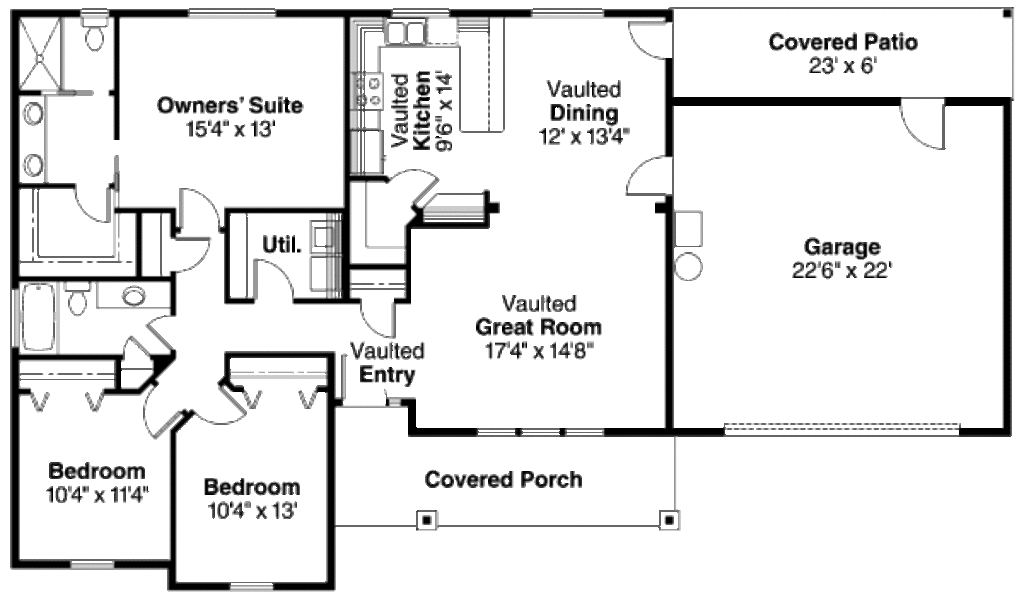door: (885, 89, 948, 153), (168, 179, 221, 241), (337, 356, 398, 408), (619, 152, 682, 200), (625, 17, 682, 69), (137, 384, 183, 441), (194, 384, 245, 435), (252, 252, 297, 303), (385, 163, 440, 204), (73, 182, 114, 231), (357, 298, 400, 342), (141, 314, 179, 351), (117, 339, 150, 359)
large_sink: (69, 7, 114, 54), (59, 272, 94, 323)
small_sink: (12, 92, 48, 188), (96, 279, 174, 314)
tub: (16, 280, 58, 357)
twin_sink: (384, 10, 431, 52)
window: (473, 419, 610, 443), (183, 1, 278, 22), (526, 2, 604, 22), (69, 555, 119, 572), (232, 578, 273, 587)
